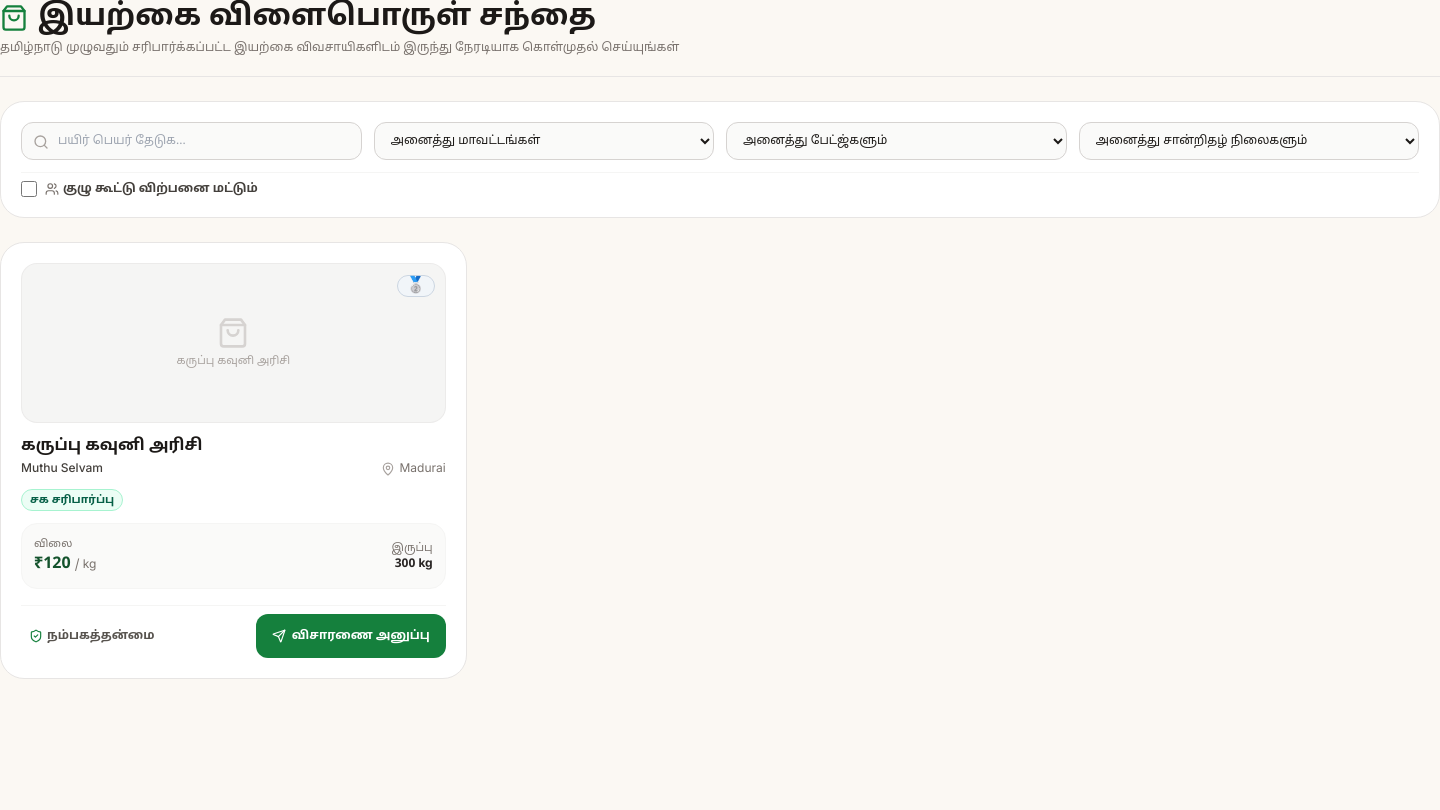
Test: Phase 6: Buyer & Public Views › Public Marketplace & Inquiry Modal › renders produce cards with crop name, price, badge and opens inquiry modal
The image size is (1440, 810).
Expected: the text "₹120 / kg" is shown, [34,554,96,574]
Expected: the text "300 kg" is shown, [395,557,433,571]
Note: Click Send Inquiry button
Step 1. Click the button "விசாரணை அனுப்பு" → (351, 636), box [256,614,446,658]
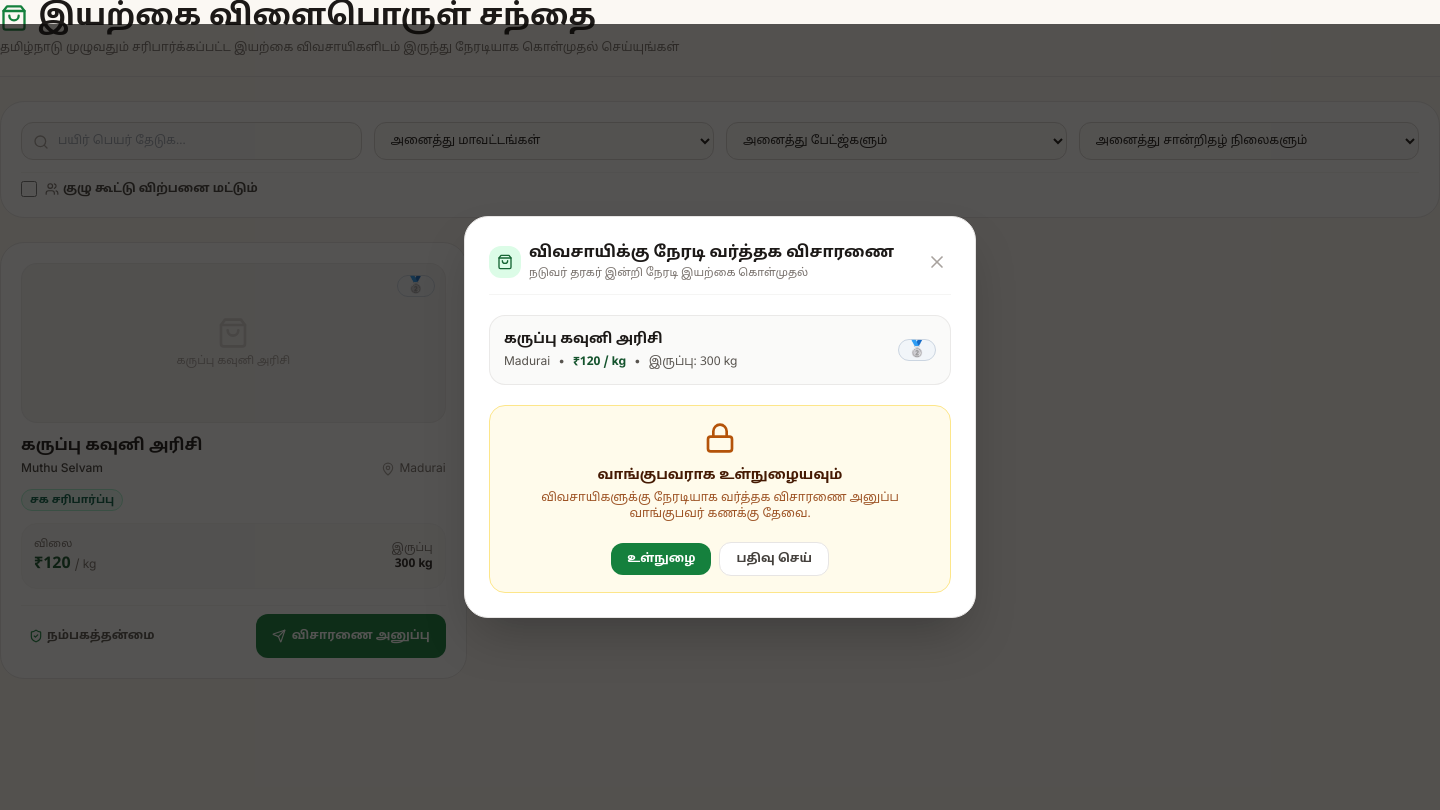
Expected: the heading "விவசாயிக்கு நேரடி வர்த்தக விசாரணை" is shown, [529,241,894,265]
